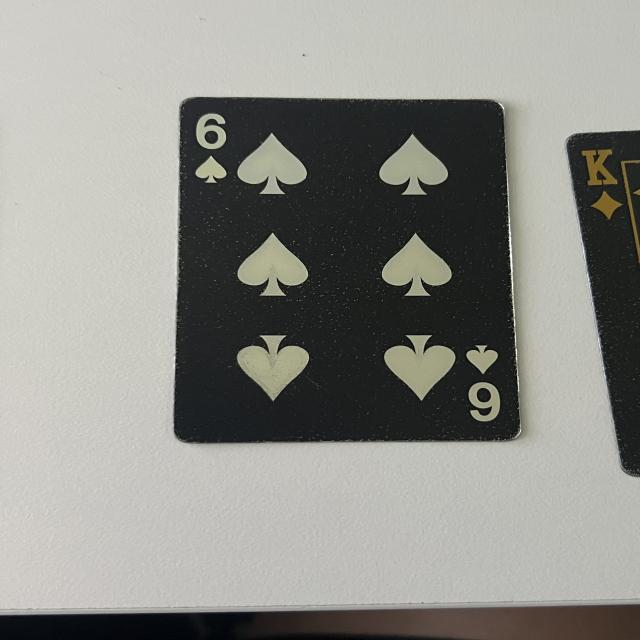6S: (453, 339, 509, 436), (190, 108, 239, 186)
KD: (583, 143, 632, 217)
